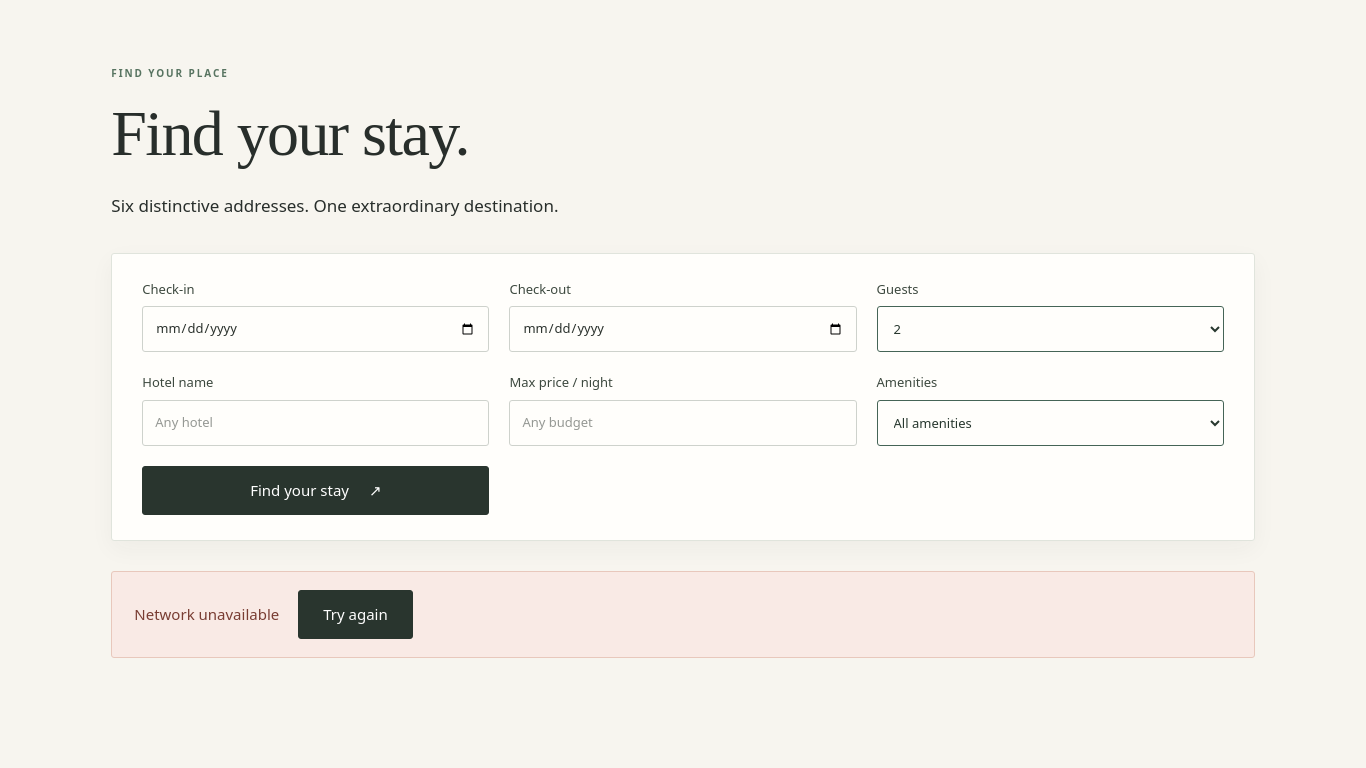
Test case: Major frontend flows › renders hotel search results and handles errors
Expected: the text "Network unavailable" is shown, [134, 604, 279, 624]
Click the button "Try again" at (355, 614), box [298, 590, 413, 639]
(page scrolled)
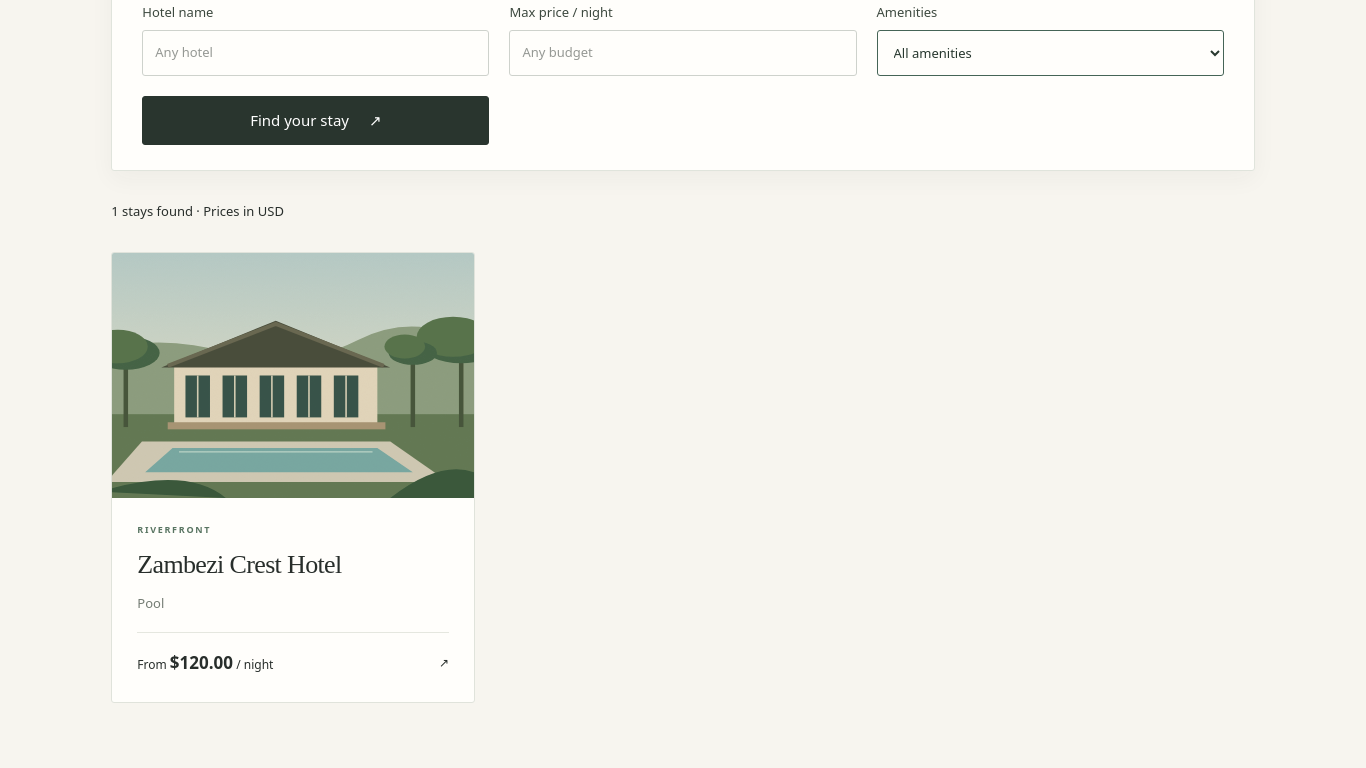
Now the heading "Zambezi Crest Hotel" is shown, box [137, 550, 342, 579]
